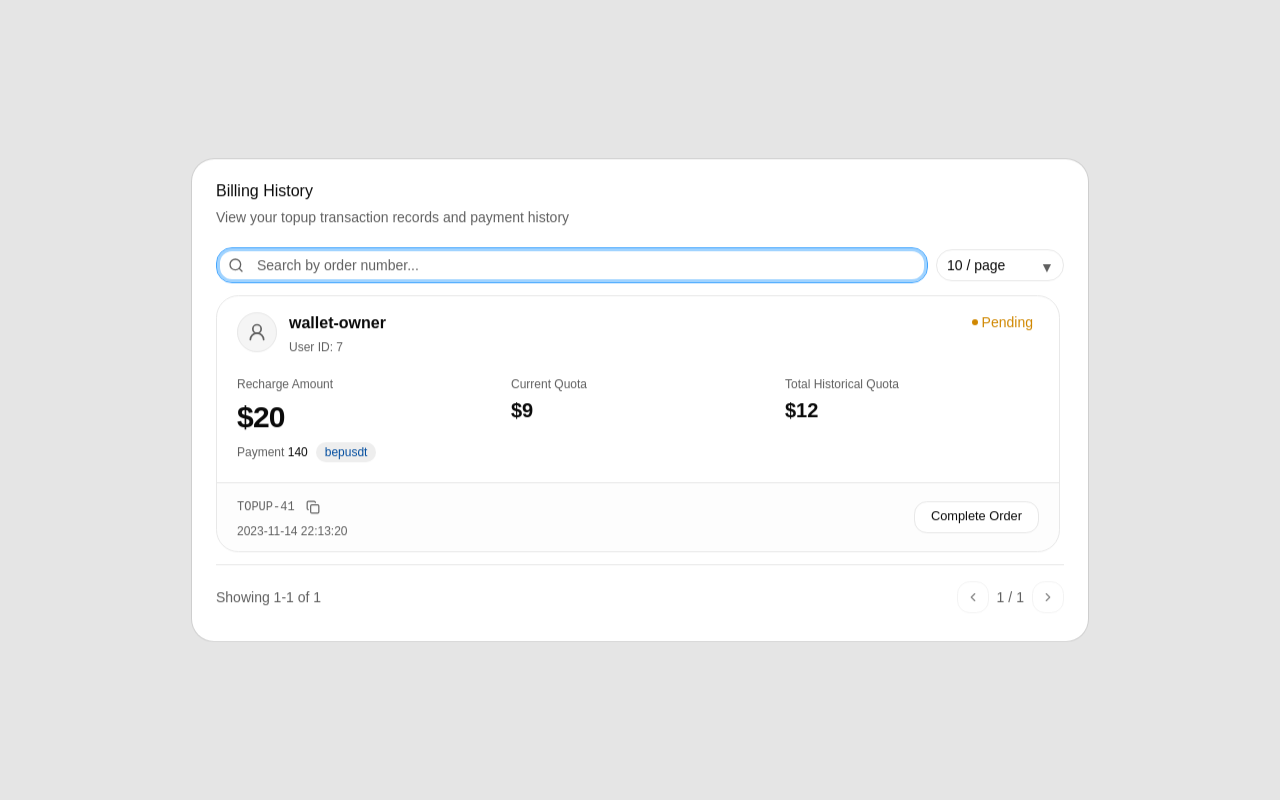
it: Billing history user information › refreshes the account details with the searched order instead of keeping the previous owner
Check: the text "TOPUP-41" is shown, box [237,499,295,515]
Type "TOPUP-77" into the field with placeholder "Search by order number...". click: (572, 265)
box: [216,247,928,283]
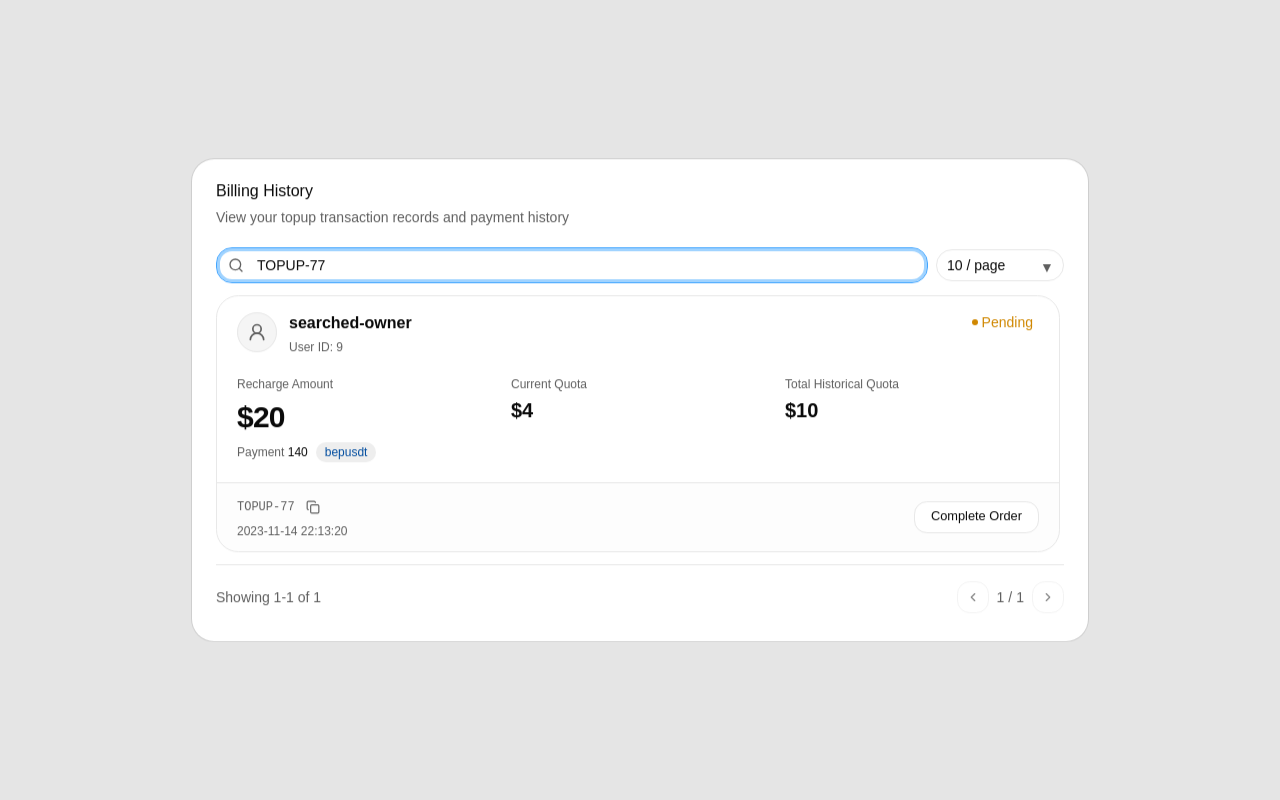
Check: the text "TOPUP-77" is shown, box [237,499,295,515]
Check: the text "TOPUP-41" is gone
Check: the text "searched-owner" is shown, box [289,314,412,331]
